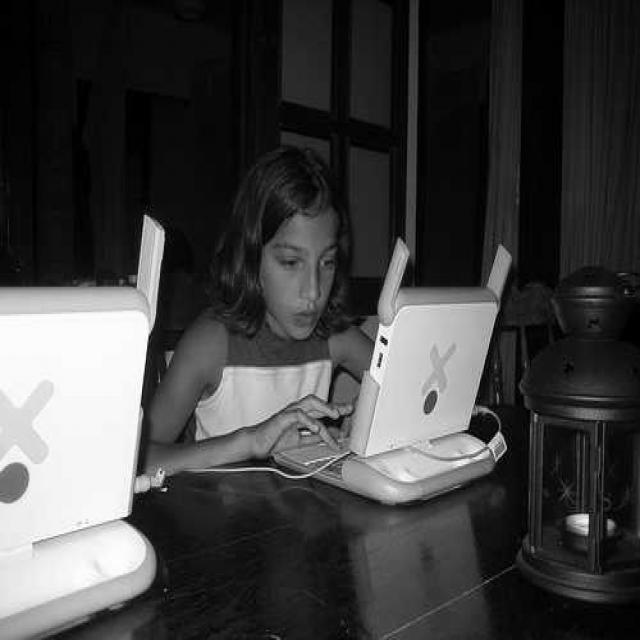laptop: (0, 286, 155, 638), (274, 290, 512, 510)
